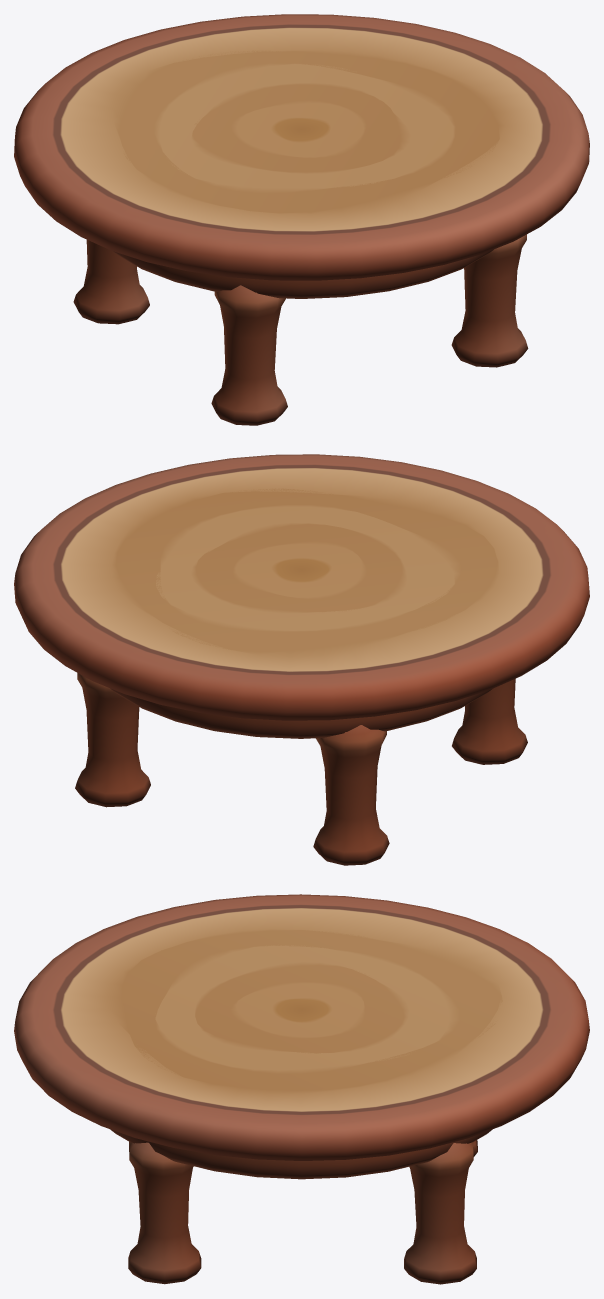
File: furn-chabudai.glb
The picture shows the model from 3 angles, top to bottom: view 1: azimuth 30°, elevation 25°; view 2: azimuth 150°, elevation 25°; view 3: azimuth 270°, elevation 25°; orthographic projection.
Visible parts, largest first — view 1: body; view 2: body; view 3: body.
Part boxes in pixels (box(x1,y1,x2,y2)): body: box(14, 14, 589, 425); body: box(14, 454, 589, 865); body: box(14, 894, 589, 1284).
Bounding box in the file's own units: 0.93 × 0.36 × 0.93.
